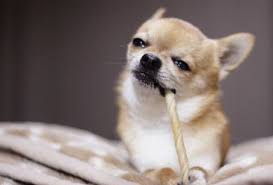chihuahua: (114, 6, 257, 175)
